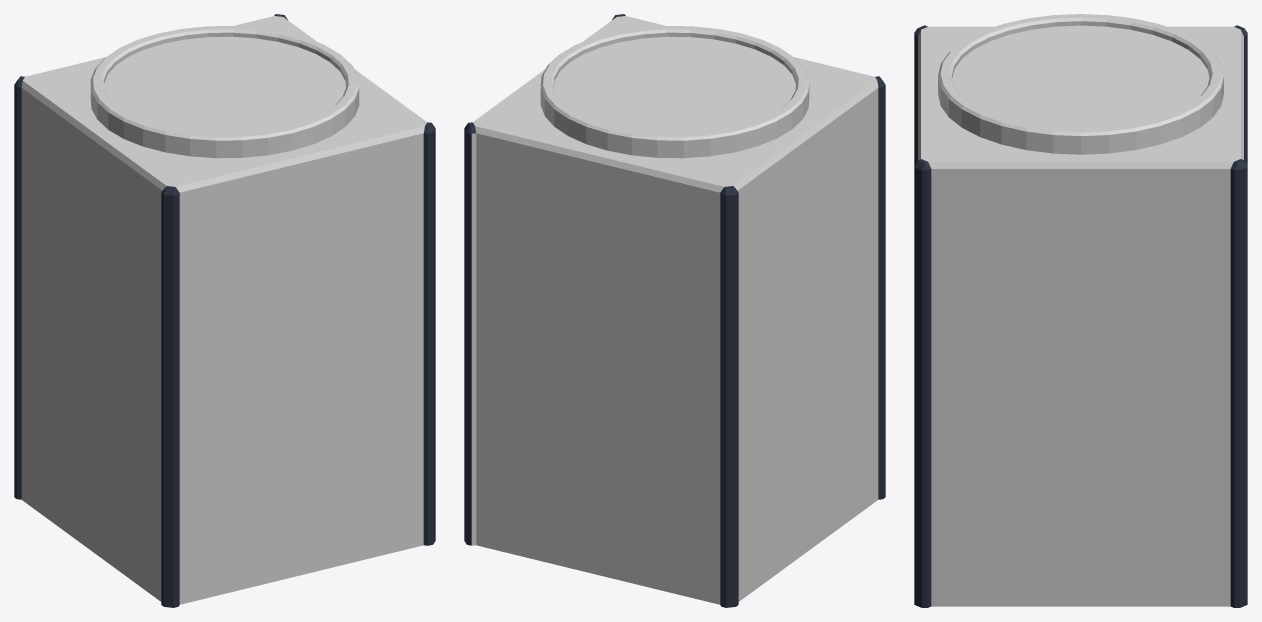
File: Energy-Tank.fbx
The picture shows the model from 3 angles, left to right: view 1: azimuth 30°, elevation 25°; view 2: azimuth 150°, elevation 25°; view 3: azimuth 270°, elevation 25°; orthographic projection. The views are drawn at different scales.
Visible parts, largest first — view 1: Energy-Tank, Cylinder; view 2: Energy-Tank, Cylinder; view 3: Energy-Tank, Cylinder.
Boxes of the visible parts, x1,y1,x2,y2 form: Energy-Tank: (14, 14, 435, 607); Cylinder: (90, 26, 359, 158); Energy-Tank: (464, 14, 885, 607); Cylinder: (540, 26, 809, 158); Energy-Tank: (914, 25, 1247, 607); Cylinder: (938, 14, 1223, 154).
Bounding box in the file's own units: 817 × 1257 × 817.
